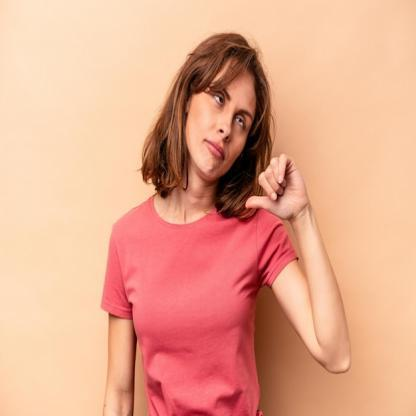thumb_down: (244, 148, 306, 223)
